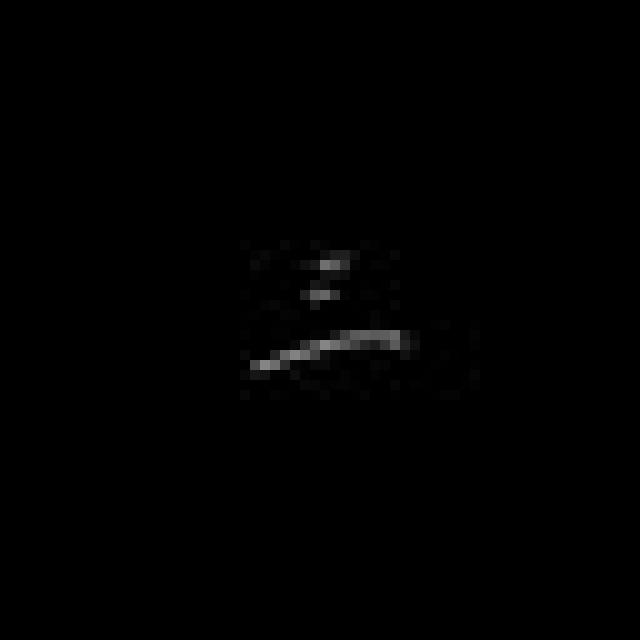3 -three-: (235, 239, 422, 387)
